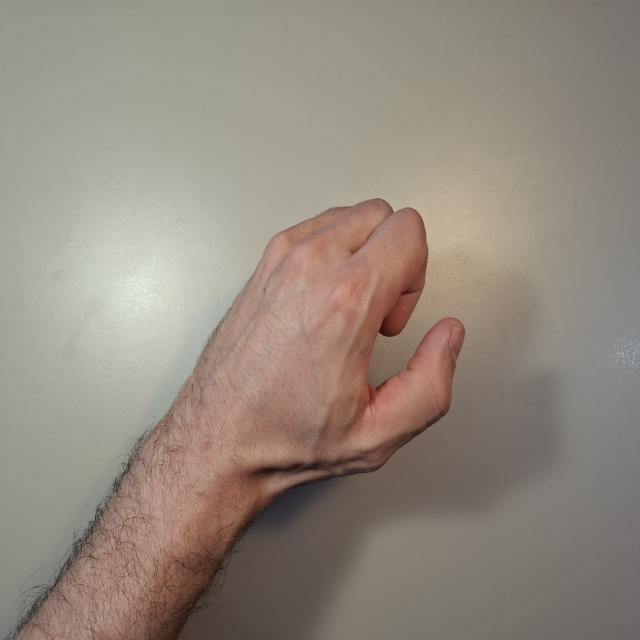glove_off: (196, 196, 468, 491)
